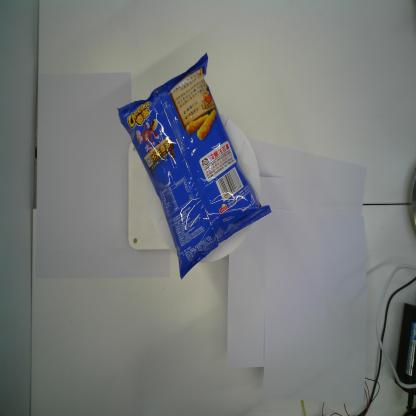Puffed Food: (116, 52, 274, 283)
